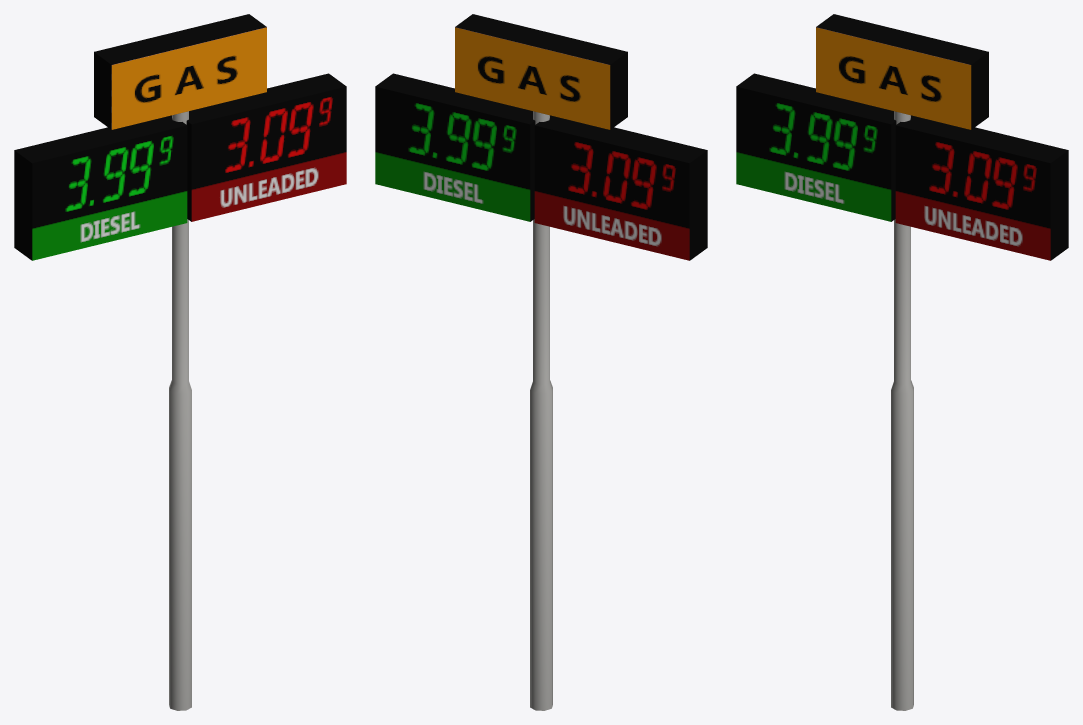
File: 1aef1c07-f160-4e02-bb6c-344c3a860ea8.glb
The picture shows the model from 3 angles, left to right: view 1: azimuth 30°, elevation 25°; view 2: azimuth 150°, elevation 25°; view 3: azimuth 330°, elevation 25°; orthographic projection.
Visible parts, largest first — view 1: Prices, Sign, Pole; view 2: Prices, Sign, Pole; view 3: Prices, Sign, Pole.
Boxes of the visible parts, bbox=[...] form: Prices: bbox=[14, 73, 346, 260]; Sign: bbox=[94, 14, 266, 129]; Pole: bbox=[169, 111, 191, 710]; Prices: bbox=[375, 73, 707, 260]; Sign: bbox=[455, 14, 627, 129]; Pole: bbox=[530, 111, 552, 710]; Prices: bbox=[736, 73, 1068, 260]; Sign: bbox=[816, 14, 988, 129]; Pole: bbox=[891, 111, 913, 710].
Size of what is drawn, in the model's own units: 2.62 by 5.31 by 0.2592.
1 material, 1 textured.
